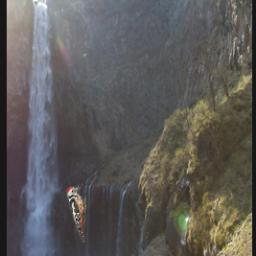Woodpecker: (67, 186, 87, 242)
